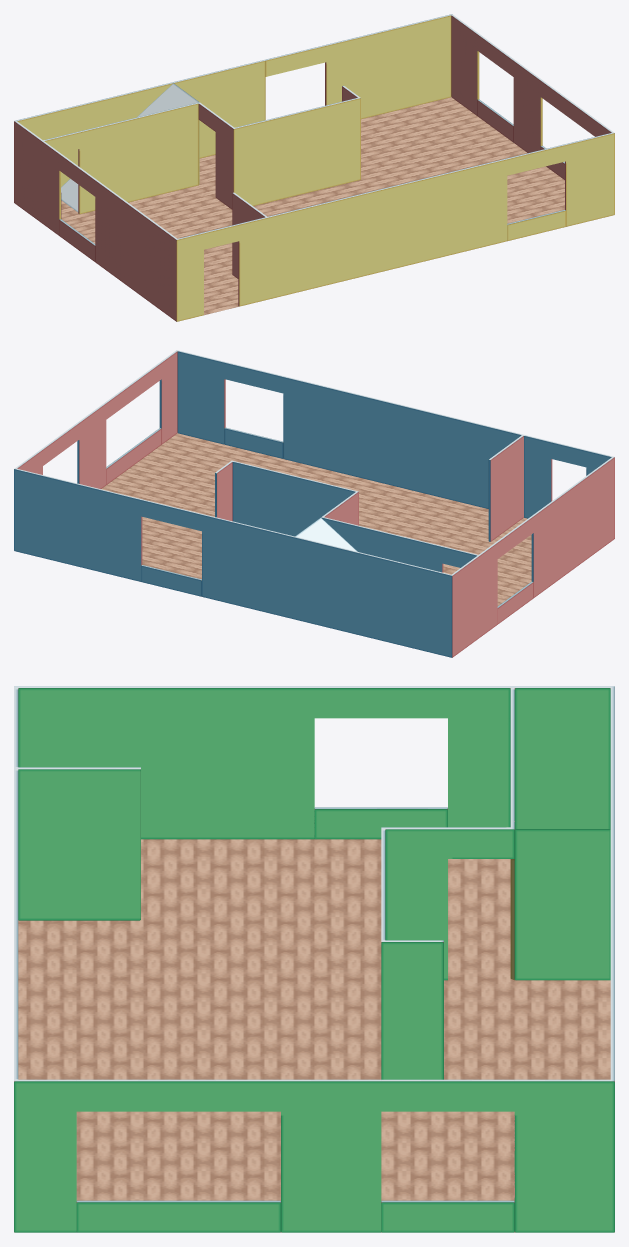
The model's file is house_m0.fbx.
The picture shows the model from 3 angles, top to bottom: view 1: azimuth 30°, elevation 25°; view 2: azimuth 150°, elevation 25°; view 3: azimuth 270°, elevation 25°; orthographic projection. The views are drawn at different scales.
Visible parts, largest first — view 1: walls, ground, stairs; view 2: walls, ground, stairs; view 3: walls, ground, stairs.
Boxes of the visible parts, x1=… form: walls: x1=14, y1=14, x2=614, y2=321; ground: x1=61, y1=97, x2=564, y2=315; stairs: x1=61, y1=83, x2=198, y2=212; walls: x1=14, y1=350, x2=614, y2=657; ground: x1=101, y1=433, x2=531, y2=657; stairs: x1=295, y1=518, x2=357, y2=551; walls: x1=14, y1=686, x2=614, y2=1232; ground: x1=14, y1=839, x2=614, y2=1232; stairs: x1=514, y1=829, x2=610, y2=980.
Bounding box in the file's own units: 1400 × 251 × 900.
3 materials, 3 textured.
